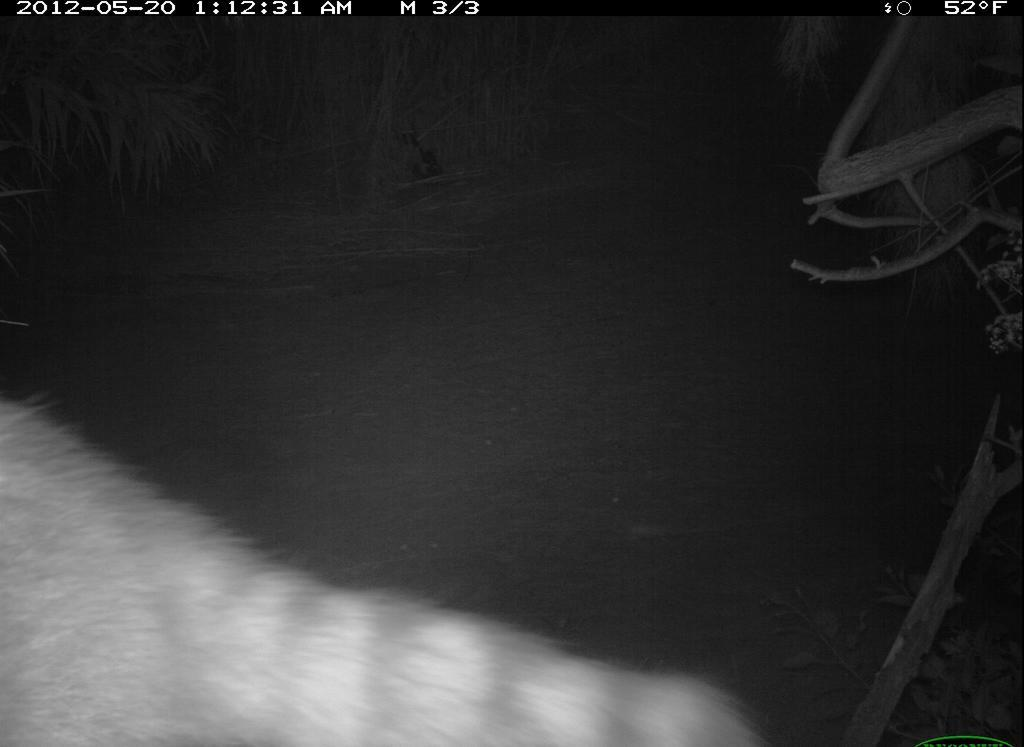raccoon: (2, 355, 784, 747)
